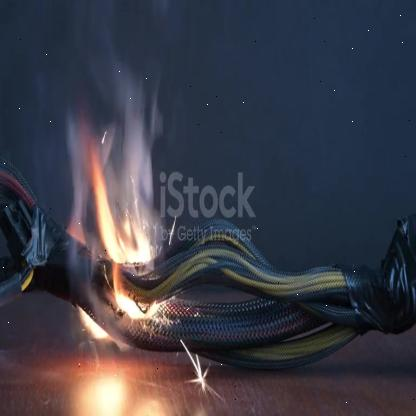fire: (95, 150, 177, 384), (60, 312, 151, 370), (77, 312, 121, 347)
smoke: (12, 9, 177, 327)
